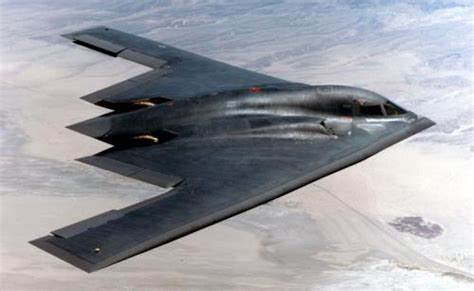Aeronef_militaire: (23, 21, 441, 277)
